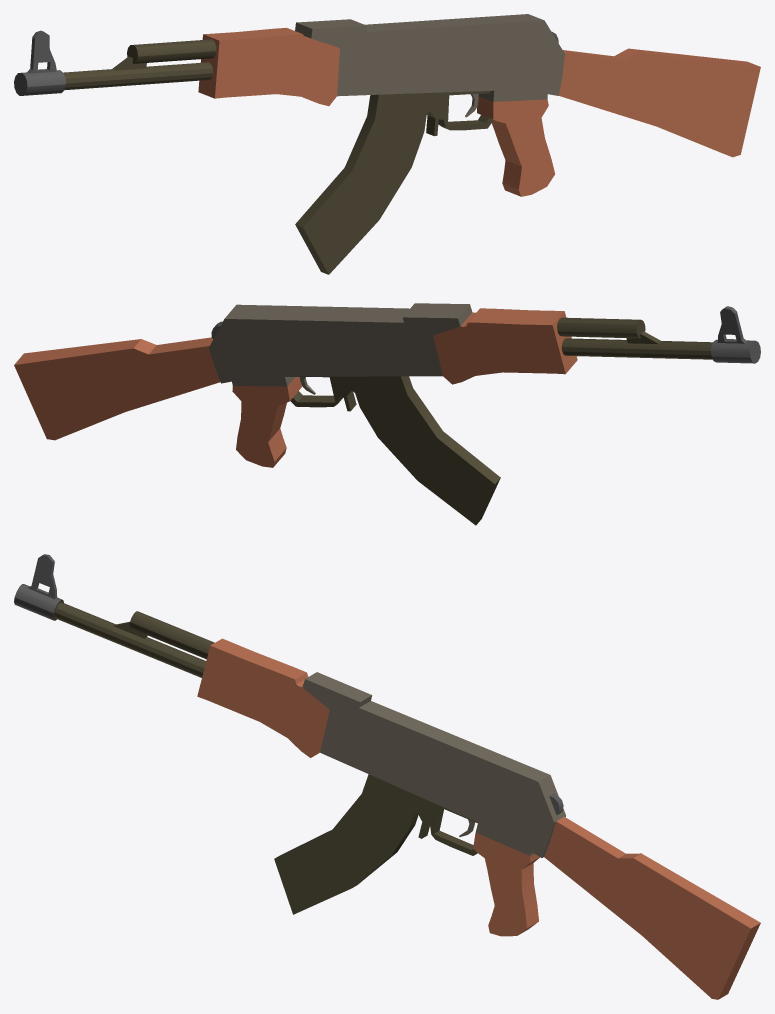
File: ak47_gun.glb
3 views of the same model, one above another, from view 1: azimuth 30°, elevation 25°; view 2: azimuth 150°, elevation 25°; view 3: azimuth 330°, elevation 25° (orthographic). The views are drawn at different scales.
Parts seen in each view (by area): view 1: Plane.002; view 2: Plane.002; view 3: Plane.002.
Part boxes in pixels (<box>): Plane.002: <box>14,14,760,274</box>; Plane.002: <box>14,303,760,525</box>; Plane.002: <box>14,554,760,999</box>.
Bounding box in the file's own units: 26.49 × 10.09 × 2.17.
